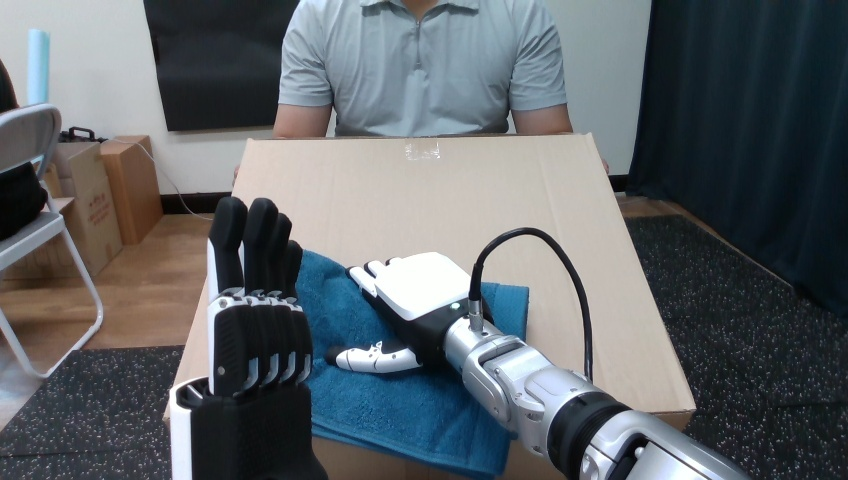left robot hand: (327, 227, 747, 479), (169, 197, 326, 478), (480, 235, 585, 374)
